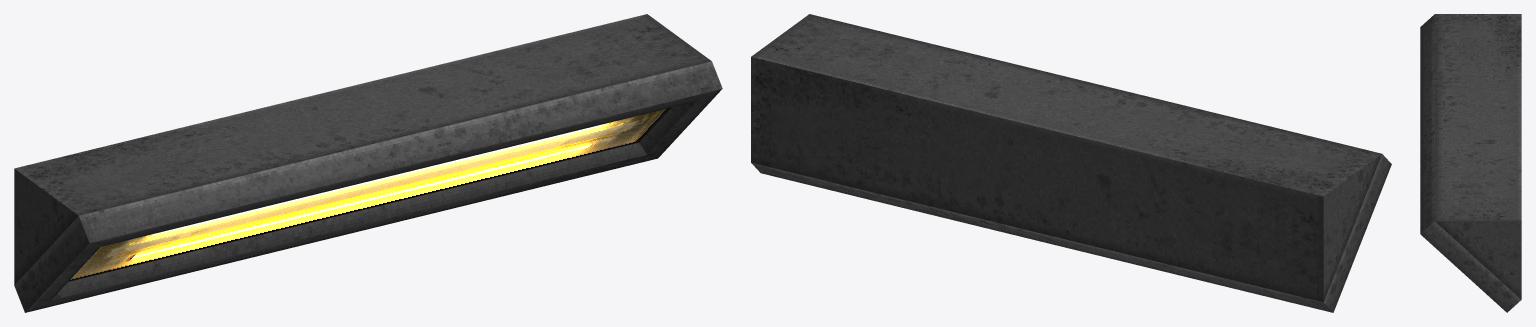
The model's file is lamp_3_on.glb.
3 renders of one model, left to right at view 1: azimuth 30°, elevation 25°; view 2: azimuth 150°, elevation 25°; view 3: azimuth 270°, elevation 25°, orthographic. The views are drawn at different scales.
Parts seen in each view (by area): view 1: lamp_3_on; view 2: lamp_3_on; view 3: lamp_3_on.
Part boxes in pixels (x1=…): lamp_3_on: x1=14, y1=14, x2=722, y2=312; lamp_3_on: x1=751, y1=14, x2=1391, y2=312; lamp_3_on: x1=1420, y1=14, x2=1521, y2=312.
Size of the model in its own units: 1.2 by 0.2475 by 0.2475.
1 material, 1 textured.
